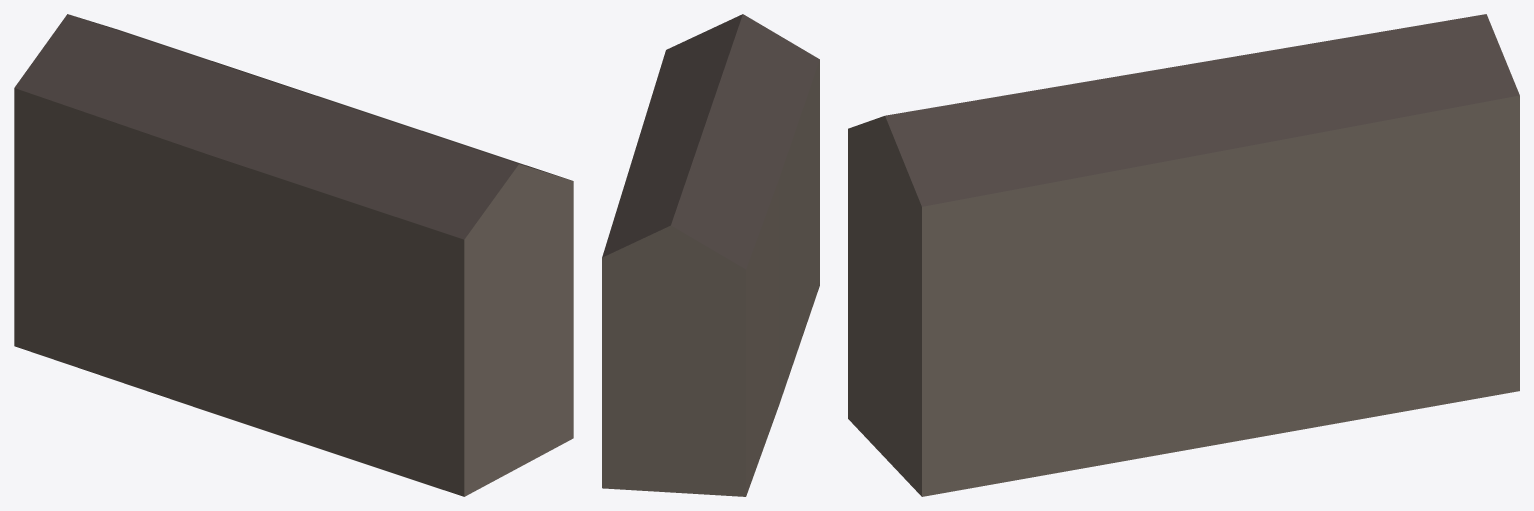
The picture shows the model from 3 angles, left to right: view 1: azimuth 30°, elevation 25°; view 2: azimuth 150°, elevation 25°; view 3: azimuth 270°, elevation 25°; orthographic projection. The views are drawn at different scales.
Visible parts, largest first — view 1: HP-w1324024092; view 2: HP-w1324024092; view 3: HP-w1324024092.
Part boxes in pixels (bbox=[...]): HP-w1324024092: bbox=[14, 14, 573, 496]; HP-w1324024092: bbox=[602, 14, 819, 496]; HP-w1324024092: bbox=[848, 14, 1519, 496].
Size of the model in its own units: 7.94 by 7.08 by 12.6.
